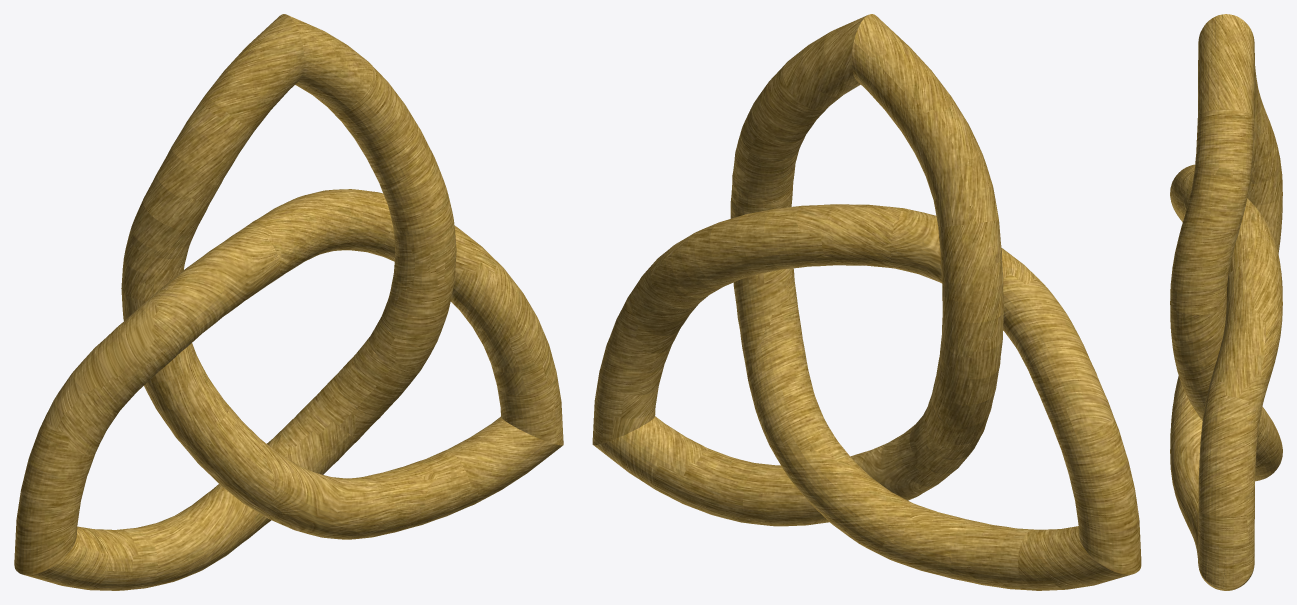
The model's file is gustavorezende-celtic-3412.glb.
3 views of the same model, side by side, from view 1: azimuth 30°, elevation 25°; view 2: azimuth 150°, elevation 25°; view 3: azimuth 270°, elevation 25° (orthographic). The views are drawn at different scales.
Visible parts, largest first — view 1: body; view 2: body; view 3: body.
Boxes of the visible parts, x1,y1,x2,y2 form: body: (14, 14, 563, 590); body: (592, 14, 1141, 590); body: (1170, 14, 1282, 590).
Bounding box in the file's own units: 0.5285 × 0.5 × 0.1032.
Materials: 1 (1 with a texture image).
